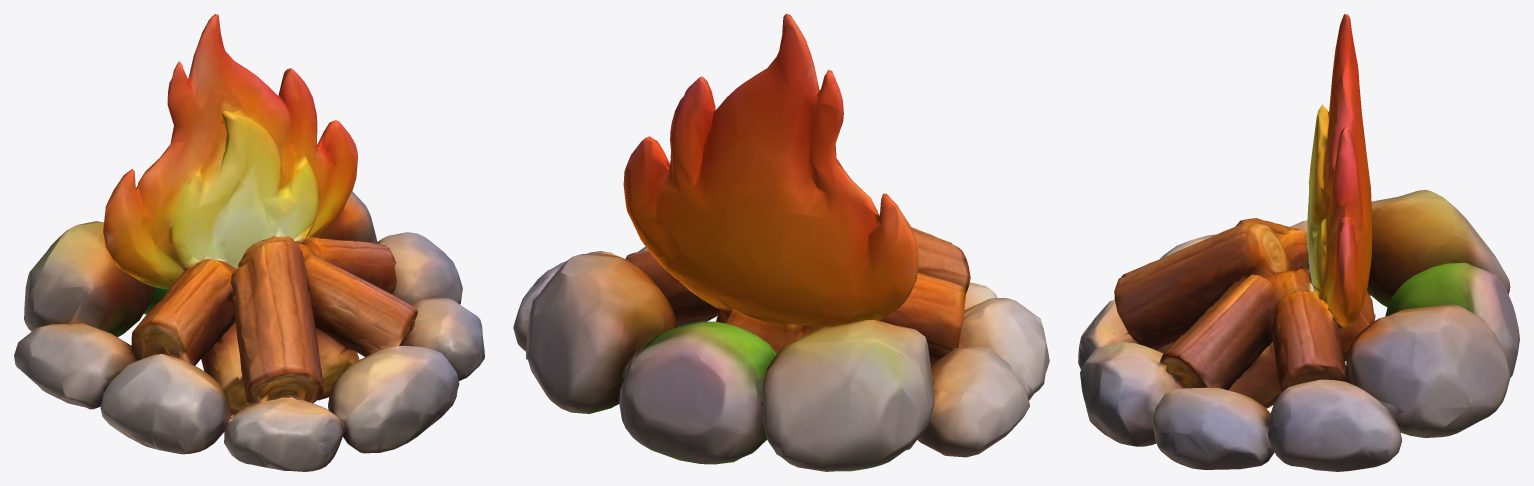
Rendered from fire.glb.
3 renders of one model, left to right at view 1: azimuth 30°, elevation 25°; view 2: azimuth 150°, elevation 25°; view 3: azimuth 270°, elevation 25°, orthographic. The views are drawn at different scales.
Size of the model in its own units: 1 by 0.8391 by 0.8846.
Materials: 1 (1 with a texture image).
